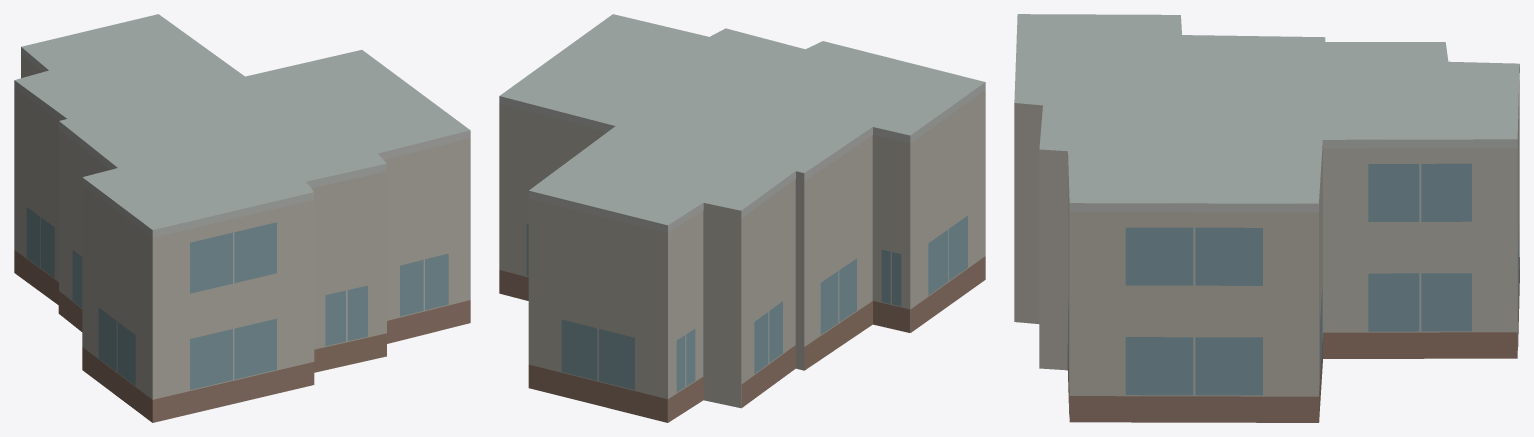
The model's file is survey-upis-32499933.glb.
3 views of the same model, side by side, from view 1: azimuth 30°, elevation 25°; view 2: azimuth 150°, elevation 25°; view 3: azimuth 270°, elevation 25° (orthographic). The views are drawn at different scales.
Parts seen in each view (by area): view 1: survey-upis-32499933.tmp; view 2: survey-upis-32499933.tmp; view 3: survey-upis-32499933.tmp.
Part boxes in pixels (x1,y1,x2,y2): survey-upis-32499933.tmp: [14, 14, 470, 422]; survey-upis-32499933.tmp: [499, 14, 985, 422]; survey-upis-32499933.tmp: [1014, 14, 1519, 422].
Size of the model in its own units: 11.34 by 6.1 by 12.76.
